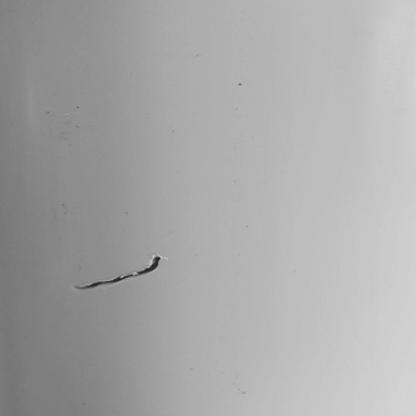fengxi: (70, 255, 162, 291)
